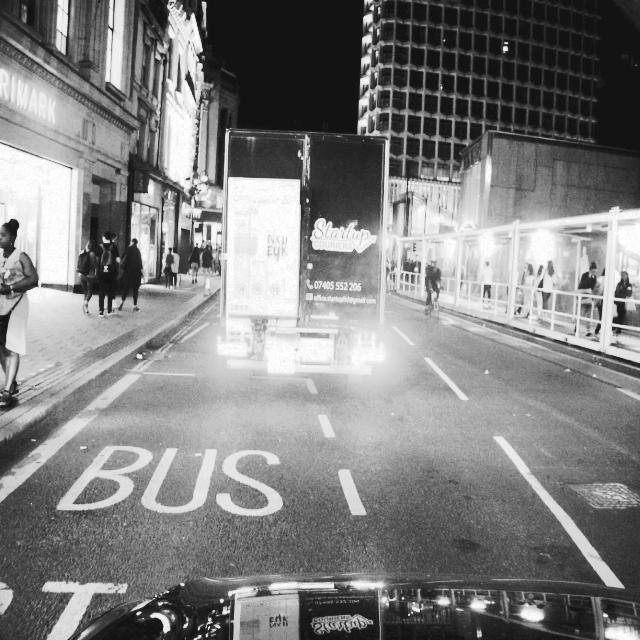Truck: (220, 127, 390, 376)
